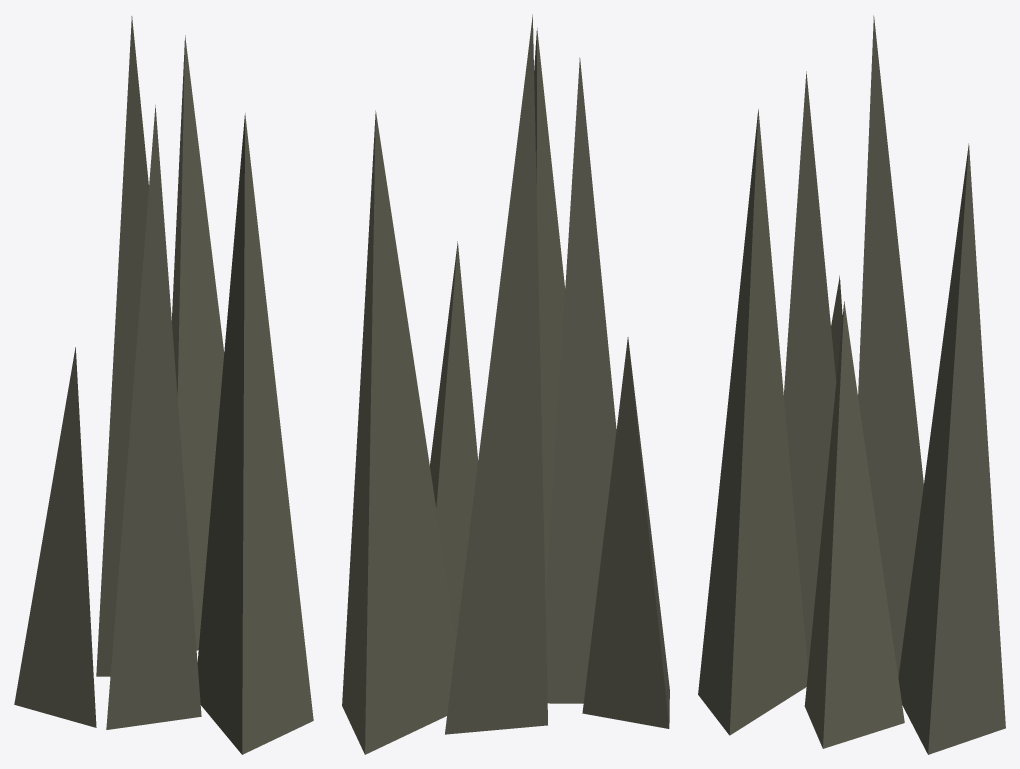
File: grass4.fbx
3 views of the same model, side by side, from view 1: azimuth 30°, elevation 25°; view 2: azimuth 150°, elevation 25°; view 3: azimuth 270°, elevation 25° (orthographic). The views are drawn at different scales.
Parts seen in each view (by area): view 1: grass4; view 2: grass4; view 3: grass4.
Part boxes in pixels (x1,y1,x2,y2): grass4: (14, 16, 313, 754); grass4: (342, 14, 669, 754); grass4: (698, 15, 1005, 754).
Bounding box in the file's own units: 75.26 × 176 × 73.22.
